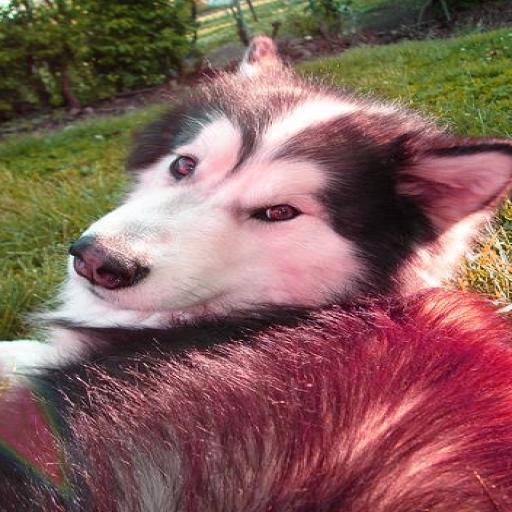dog_face: (68, 42, 509, 312)
